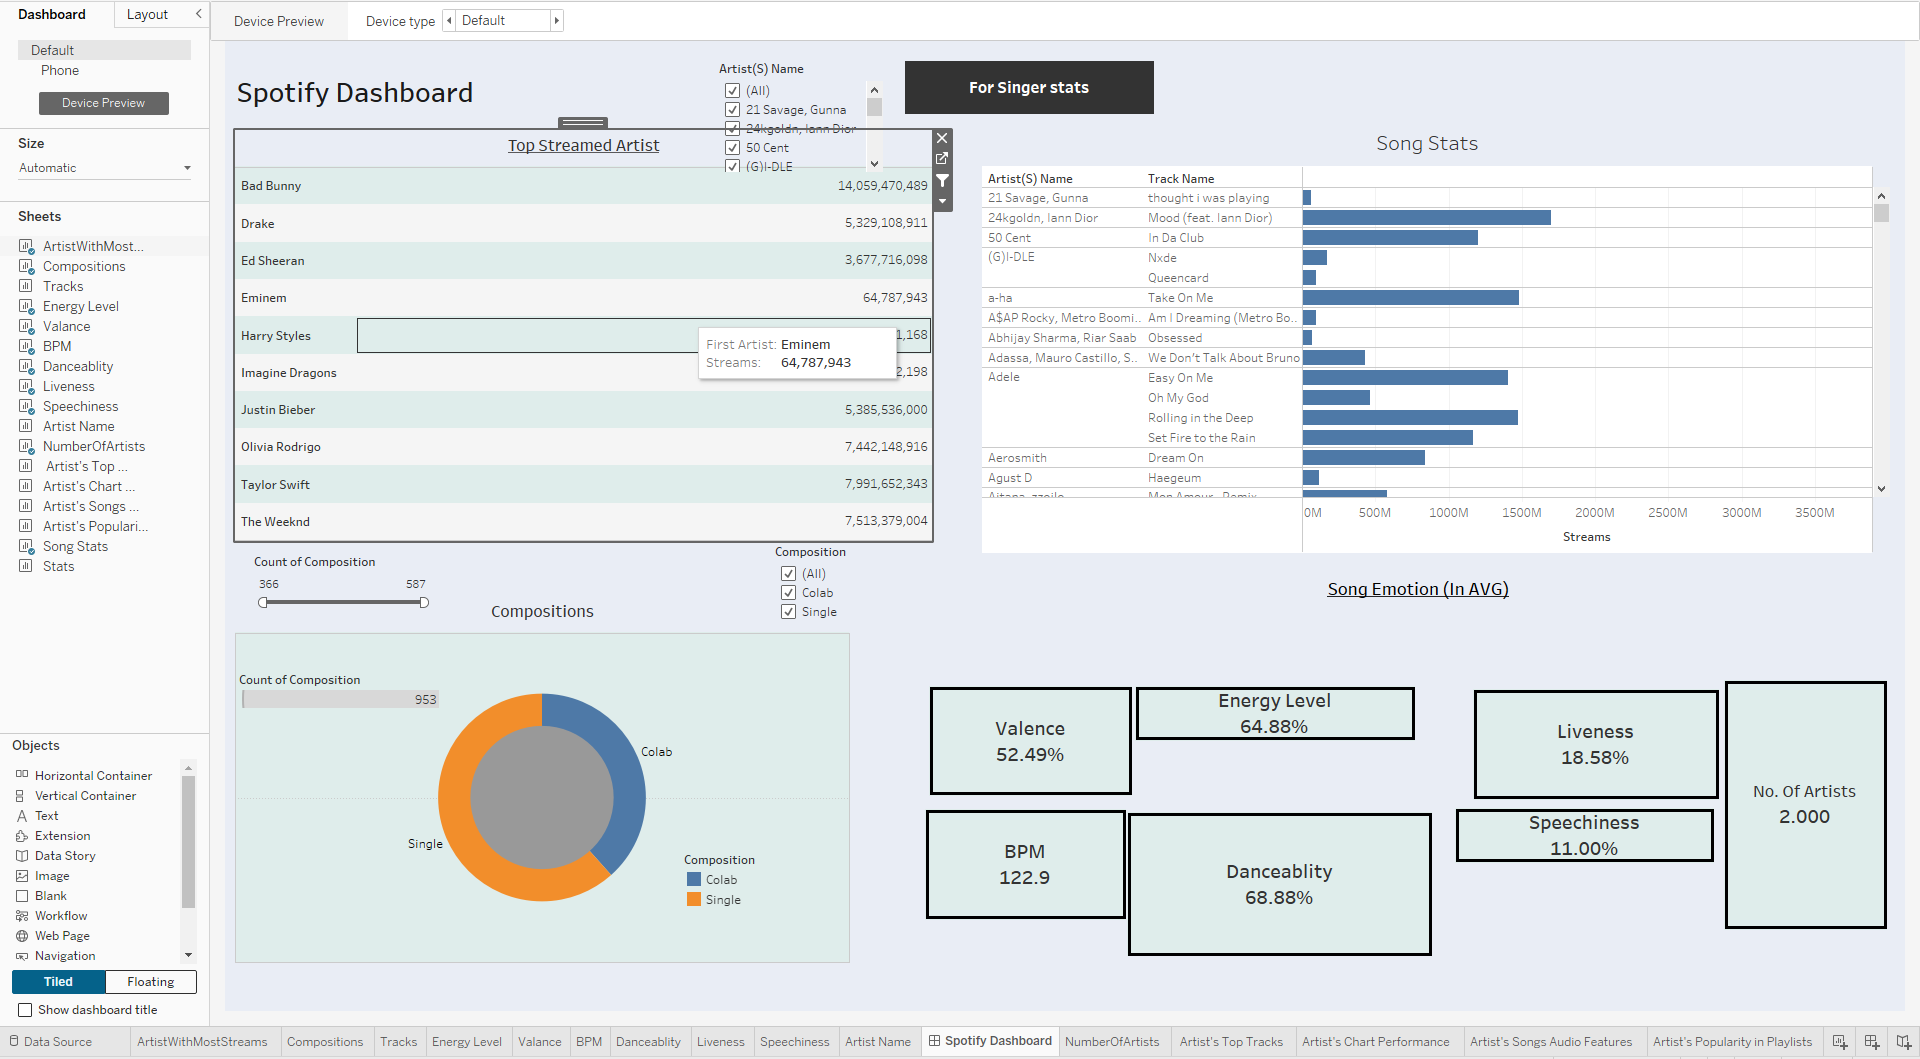

The page's visual inventory and layout, read from the dashboard file:
{"tool":"tableau","page":{"name":"Spotify Dashboard","canvas":[1000,1000],"units":"permille","ordinal":1},"visuals":[{"type":"text","box":[5.6,15.1,263.7,72.4]},{"type":"filter","title":"BPM","param":"[federated.0ng77he1ppkb0q10wb55f10xs8th].[none:artist(s)_name:nk]","box":[294.2,19.6,97.9,115.2]},{"type":"dashboard-object","box":[404.9,20.9,148,55]},{"type":"worksheet","title":"Song Stats","mark":"Automatic","rows":["artist(s)_name","track_name"],"cols":["streams"],"box":[450.8,85.1,540.3,442.4]},{"type":"worksheet","title":"ArtistWithMostStreams","mark":"Automatic","rows":["artist(s)_name - Split 1"],"box":[5.7,91.6,415.2,424.1]},{"type":"filter","title":"Compositions","param":"[federated.0ng77he1ppkb0q10wb55f10xs8th].[none:Calculation_1738670944604581890:n","box":[327.6,517,106.7,115.2]},{"type":"filter","title":"Compositions","param":"[federated.0ng77he1ppkb0q10wb55f10xs8th].[cnt:Calculation_1738670944604581890:qk","box":[17.1,527.5,106.7,100.8]},{"type":"text","box":[431.8,528.7,557.5,71.1]},{"type":"worksheet","title":"Compositions","mark":"Pie","rows":["Calculation_89227581297659905","Calculation_89227581297680387"],"box":[5.7,572,366.4,378.3]},{"type":"legend","title":"Compositions","param":"[federated.0ng77he1ppkb0q10wb55f10xs8th].[cnt:Calculation_1738670944604581890:qk","box":[8.2,649.2,120,62.8]},{"type":"worksheet","title":"NumberOfArtists","mark":"Automatic","box":[892.4,658.4,97.9,257.9]},{"type":"worksheet","title":"Valance","mark":"Automatic","box":[419,664.9,121.7,113.9]},{"type":"worksheet","title":"Energy Level","mark":"Automatic","box":[541.9,664.9,176.2,127]},{"type":"worksheet","title":"Liveness","mark":"Automatic","box":[743.1,667.5,146.8,115.2]},{"type":"worksheet","title":"Speechiness","mark":"Automatic","box":[732.1,790.6,201.8,120.4]},{"type":"worksheet","title":"BPM","mark":"Automatic","box":[416.9,791.9,120.1,115.2]},{"type":"worksheet","title":"Danceablity","mark":"Automatic","box":[537.1,794.5,193,149.2]},{"type":"legend","title":"Compositions","param":"[federated.0ng77he1ppkb0q10wb55f10xs8th].[none:Calculation_1738670944604581890:n","box":[273,835.1,88.9,99.5]}]}

Visuals, with their boxes on the dashboard's canvas, which has no fixed pixel size, in thousandths of its width and height (x1, y1, x2, y2). These are canvas units, not pixel positions in the 1920x1059 screenshot, which may show the page scaled, cropped or inside an application window:
text: BBox(6, 15, 269, 88)
"BPM" filter: BBox(294, 20, 392, 135)
dashboard-object: BBox(405, 21, 553, 76)
"Song Stats" worksheet: BBox(451, 85, 991, 528)
"ArtistWithMostStreams" worksheet: BBox(6, 92, 421, 516)
"Compositions" filter: BBox(328, 517, 434, 632)
"Compositions" filter: BBox(17, 528, 124, 628)
text: BBox(432, 529, 989, 600)
"Compositions" worksheet (Pie marks): BBox(6, 572, 372, 950)
"Compositions" legend: BBox(8, 649, 128, 712)
"NumberOfArtists" worksheet: BBox(892, 658, 990, 916)
"Valance" worksheet: BBox(419, 665, 541, 779)
"Energy Level" worksheet: BBox(542, 665, 718, 792)
"Liveness" worksheet: BBox(743, 668, 890, 783)
"Speechiness" worksheet: BBox(732, 791, 934, 911)
"BPM" worksheet: BBox(417, 792, 537, 907)
"Danceablity" worksheet: BBox(537, 794, 730, 944)
"Compositions" legend: BBox(273, 835, 362, 935)
